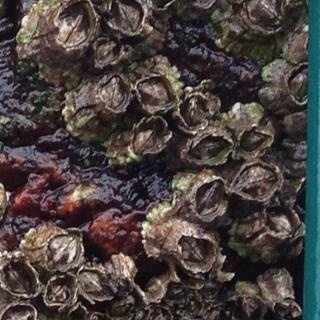Barnacle: (56, 0, 95, 49), (43, 229, 83, 272), (236, 166, 277, 200), (131, 119, 166, 157), (193, 179, 226, 217), (246, 0, 283, 31), (81, 269, 114, 303), (4, 261, 36, 296), (179, 236, 214, 268), (138, 77, 173, 108), (100, 74, 129, 111), (192, 136, 229, 162), (113, 0, 143, 32), (180, 95, 208, 129), (266, 211, 296, 238), (288, 66, 311, 101), (232, 293, 261, 320), (48, 277, 76, 303), (239, 128, 267, 154), (274, 299, 299, 320)
